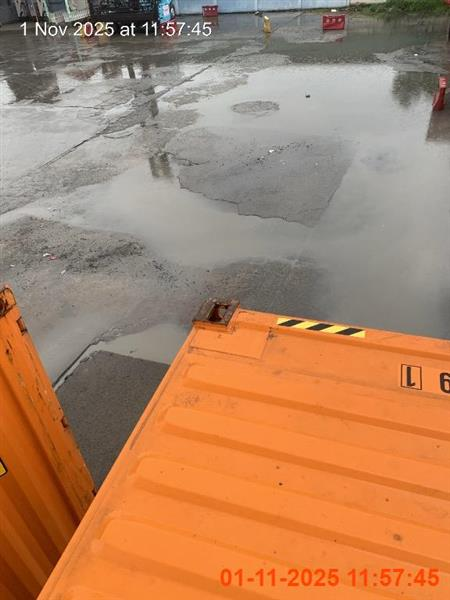crack: (37, 298, 448, 599)
